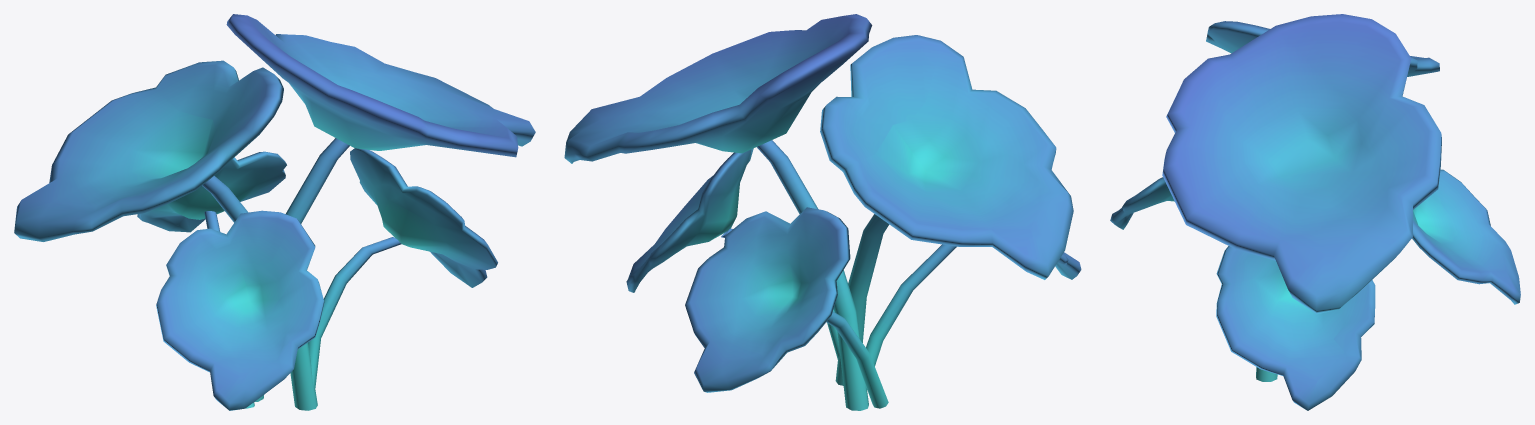
Rendered from vegetacion02.fbx.
The picture shows the model from 3 angles, left to right: view 1: azimuth 30°, elevation 25°; view 2: azimuth 150°, elevation 25°; view 3: azimuth 270°, elevation 25°; orthographic projection. The views are drawn at different scales.
Visible parts, largest first — view 1: Plant.024; view 2: Plant.024; view 3: Plant.024.
Part boxes in pixels (<box>): Plant.024: <box>14,14,535,410</box>; Plant.024: <box>564,14,1081,410</box>; Plant.024: <box>1110,14,1520,410</box>.
Bounding box in the file's own units: 942 × 657 × 693.
1 material, 1 textured.
